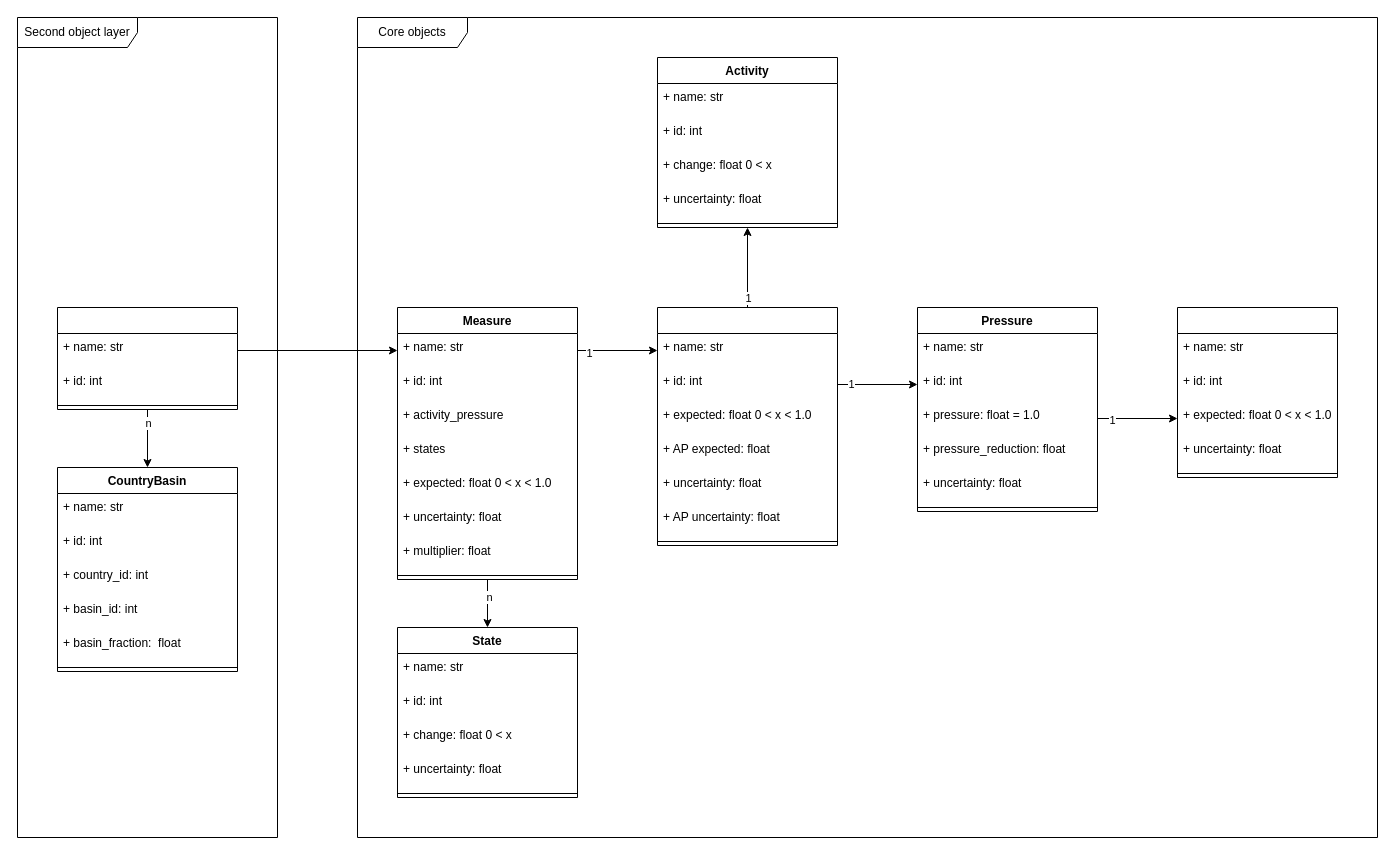
Image size: 1395x855. Some labels were removed from this diagram. Here are the shapes that lost their labels. From the top down, the box of each, then its label:
(56, 306, 238, 410): Case
(1176, 306, 1338, 478): PressureState
(656, 306, 838, 546): ActivityPressure
